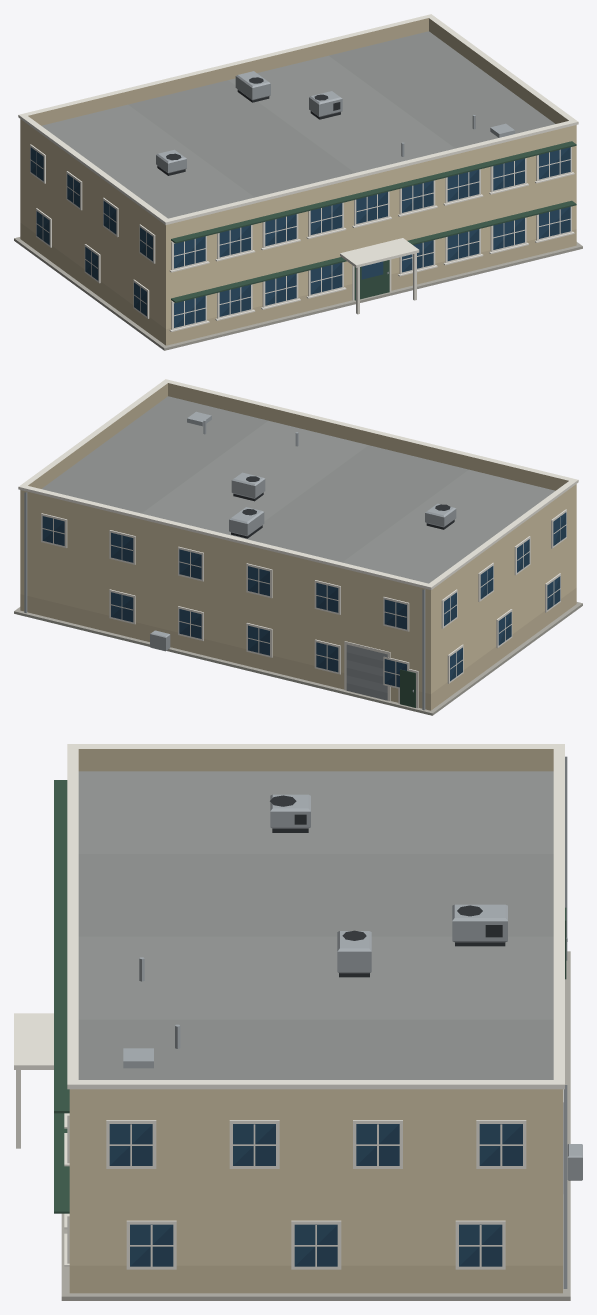
The model's file is office_26x16_2f.glb.
3 views of the same model, one above another, from view 1: azimuth 30°, elevation 25°; view 2: azimuth 150°, elevation 25°; view 3: azimuth 270°, elevation 25° (orthographic). The views are drawn at different scales.
Visible parts, largest first — view 1: block; view 2: block; view 3: block.
Boxes of the visible parts, left/top/right/bottom form: block: left=14, top=14, right=582, bottom=350; block: left=14, top=379, right=582, bottom=715; block: left=14, top=744, right=582, bottom=1300.
Bounding box in the file's own units: 26.5 × 7.9 × 18.45.
